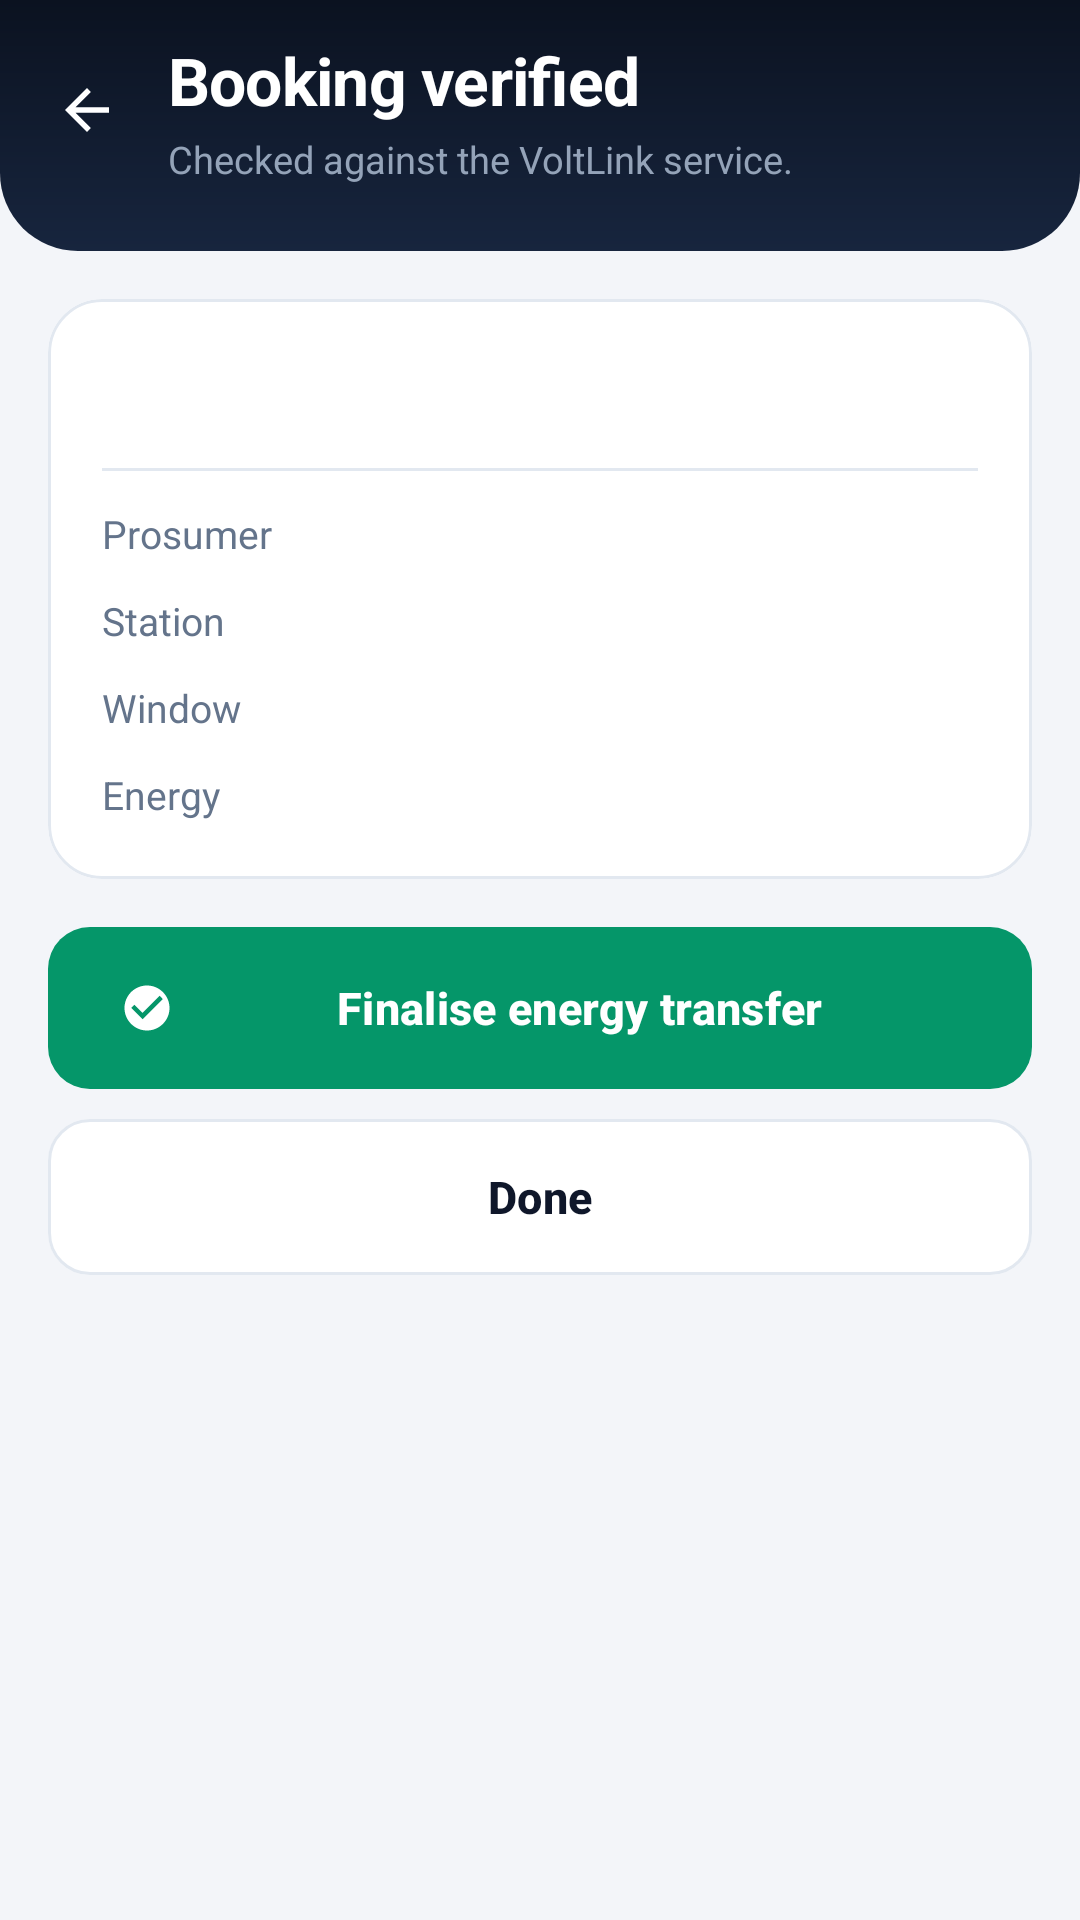

Named icons in this screenshot (1080x1920) and their bounding boxes, (x1, y1, x2, y2):
Back: (65, 88, 109, 132)
